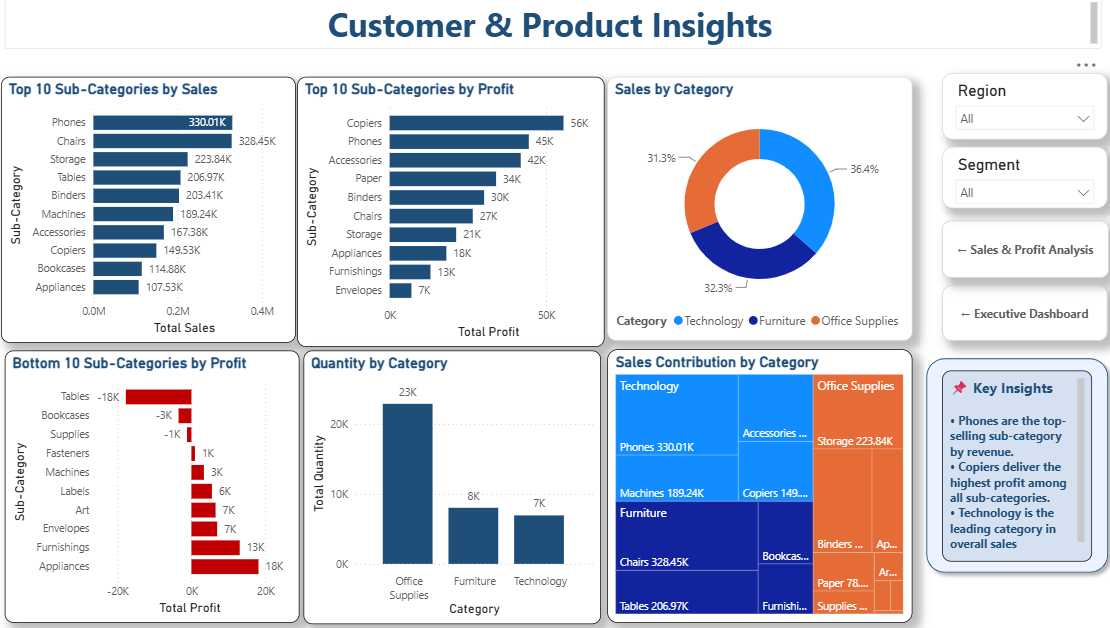

Layout of this report page (visuals, bound fields, positions):
{"tool":"powerbi","page":{"name":"Customer & Product Insights","canvas":[1280,720],"ordinal":2},"visuals":[{"type":"textbox","box":[10.2,0,1254,58.3],"z":0},{"type":"slicer","fields":{"Values":["superstore_sales csv.Region"]},"box":[1081.4,85.7,188.6,75.7],"z":1000},{"type":"slicer","fields":{"Values":["superstore_sales csv.Segment"]},"box":[1081.4,170,188.6,70],"z":2000},{"type":"clusteredBarChart","title":"Top 10 Sub-Categories by Sales","fields":{"Category":["superstore_sales csv.Sub-Category"],"Y":["Mearsure.Total Sales"]},"box":[5.7,90,337.1,304.3],"z":3000},{"type":"clusteredBarChart","title":"Top 10 Sub-Categories by Profit","fields":{"Category":["superstore_sales csv.Sub-Category"],"Y":["Mearsure.Total Profit"]},"box":[344.3,90,351.4,308.6],"z":4000},{"type":"donutChart","title":"Sales by Category","fields":{"Category":["superstore_sales csv.Category"],"Y":["Mearsure.Total Sales"]},"box":[698.6,90,348.6,301.4],"z":5000},{"type":"clusteredBarChart","title":"Bottom 10 Sub-Categories by Profit","fields":{"Y":["Mearsure.Total Profit"],"Category":["superstore_sales csv.Sub-Category"]},"box":[10,402.9,337.1,311.4],"z":6000},{"type":"clusteredColumnChart","title":"Quantity by Category","fields":{"Category":["superstore_sales csv.Category"],"Y":["Mearsure.Total Quantity"]},"box":[351.4,402.9,340,312.9],"z":7000},{"type":"treemap","title":"Sales Contribution by Category","fields":{"Group":["superstore_sales csv.Category"],"Values":["Mearsure.Total Sales"],"Details":["superstore_sales csv.Sub-Category"]},"box":[698.6,401.4,348.6,312.9],"z":8000},{"type":"actionButton","box":[1081.4,254.3,190,65.7],"z":9000},{"type":"actionButton","box":[1081.4,328.6,188.6,62.9],"z":10000},{"type":"shape","box":[1054.3,402.9,225.7,262.9],"z":10001},{"type":"textbox","box":[1081.4,425.7,171.4,218.6],"z":10002}]}

Visuals, with their boxes in screenshot pixels (x1, y1, x2, y2), scaled from the page's 1280x720 canvas onto the 1110x628 screenshot:
textbox: select_region(9, 0, 1096, 51)
slicer - superstore_sales csv.Region: select_region(938, 75, 1101, 141)
slicer - superstore_sales csv.Segment: select_region(938, 148, 1101, 209)
"Top 10 Sub-Categories by Sales" clusteredBarChart: select_region(5, 78, 297, 344)
"Top 10 Sub-Categories by Profit" clusteredBarChart: select_region(299, 78, 603, 348)
"Sales by Category" donutChart: select_region(606, 78, 908, 341)
"Bottom 10 Sub-Categories by Profit" clusteredBarChart: select_region(9, 351, 301, 623)
"Quantity by Category" clusteredColumnChart: select_region(305, 351, 600, 624)
"Sales Contribution by Category" treemap: select_region(606, 350, 908, 623)
actionButton: select_region(938, 222, 1103, 279)
actionButton: select_region(938, 287, 1101, 341)
shape: select_region(914, 351, 1109, 581)
textbox: select_region(938, 371, 1086, 562)
